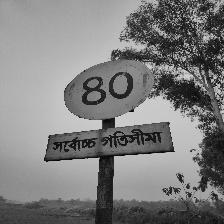Speed-limit: (45, 57, 170, 162)
